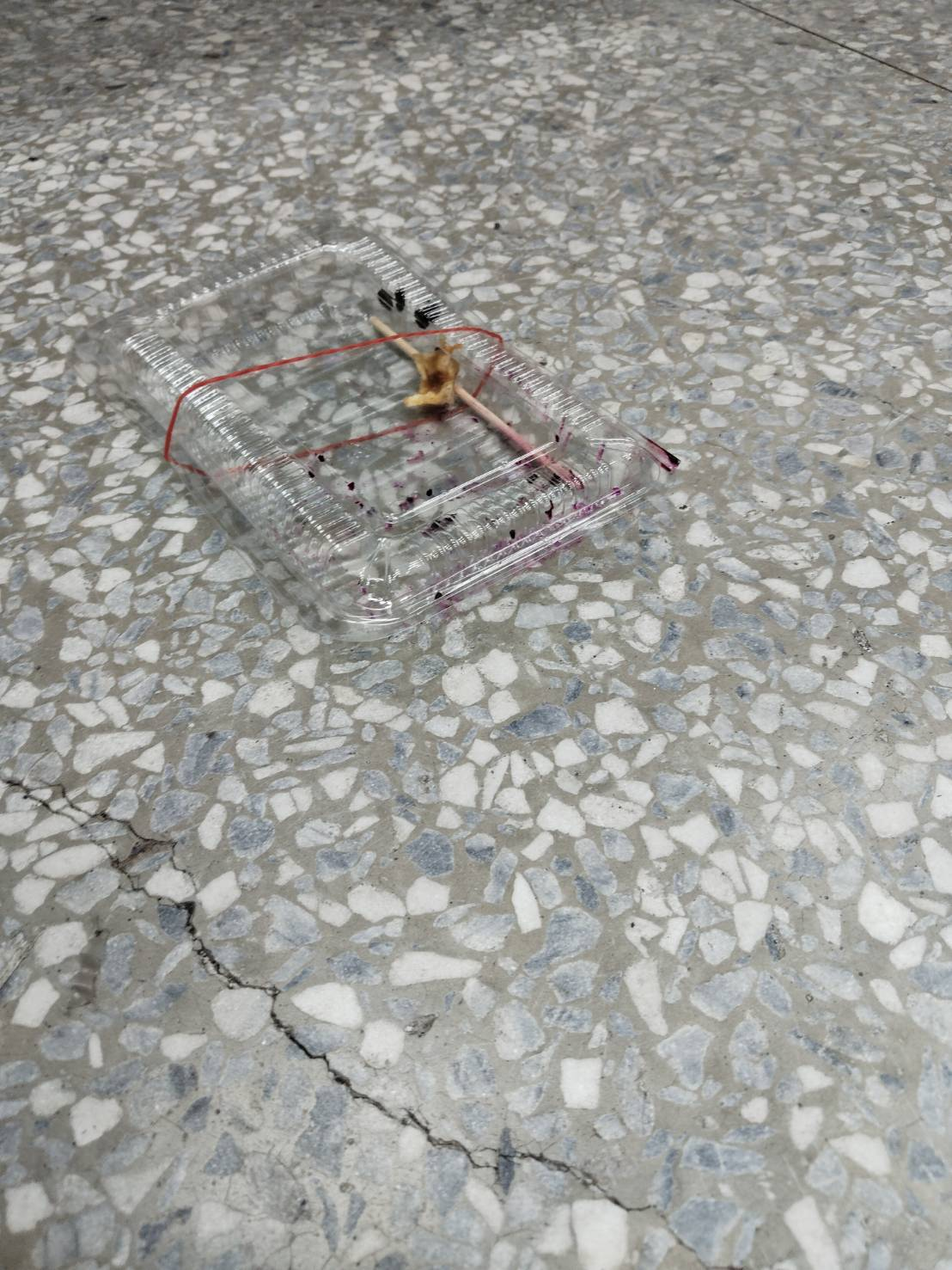plastic: (88, 171, 735, 717)
